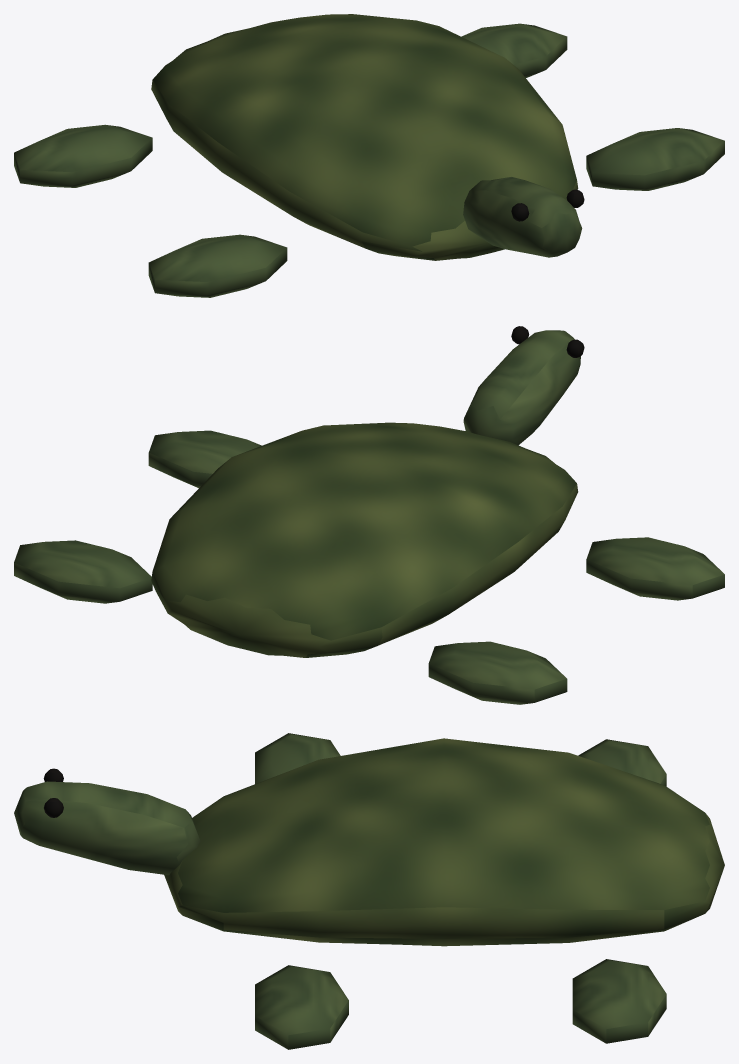
File: water_freshwater_turtle.glb
3 views of the same model, one above another, from view 1: azimuth 30°, elevation 25°; view 2: azimuth 150°, elevation 25°; view 3: azimuth 270°, elevation 25° (orthographic). The views are drawn at different scales.
Parts seen in each view (by area): view 1: Body.012, Head.010, Leg_FL.010, Leg_FR.010, Leg_BL.006, Leg_BR.006, Eyes.012; view 2: Body.012, Head.010, Leg_BL.006, Leg_FL.010, Leg_BR.006, Leg_FR.010; view 3: Body.012, Head.010, Leg_BR.006, Leg_FR.010, Leg_FL.010, Leg_BL.006, Eyes.012.
Part boxes in pixels (box(x1,y1,x2,y2)): Body.012: box(151, 14, 578, 260); Head.010: box(463, 177, 582, 257); Leg_FL.010: box(148, 234, 287, 297); Leg_FR.010: box(586, 128, 724, 190); Leg_BL.006: box(14, 124, 152, 187); Leg_BR.006: box(461, 23, 567, 77); Eyes.012: box(511, 189, 584, 221); Body.012: box(151, 422, 578, 657); Head.010: box(463, 330, 580, 445); Leg_BL.006: box(428, 641, 567, 704); Leg_FL.010: box(586, 537, 724, 600); Leg_BR.006: box(14, 540, 152, 603); Leg_FR.010: box(148, 430, 261, 488); Body.012: box(164, 738, 724, 946); Head.010: box(14, 781, 200, 875); Leg_BR.006: box(572, 959, 666, 1043); Leg_FR.010: box(255, 965, 348, 1049); Leg_FL.010: box(255, 733, 340, 783); Leg_BL.006: box(578, 739, 666, 786); Eyes.012: box(43, 768, 63, 817).
Bounding box in the file's own units: 0.495 × 0.104 × 0.4921.
Materials: 3 (3 with a texture image).
